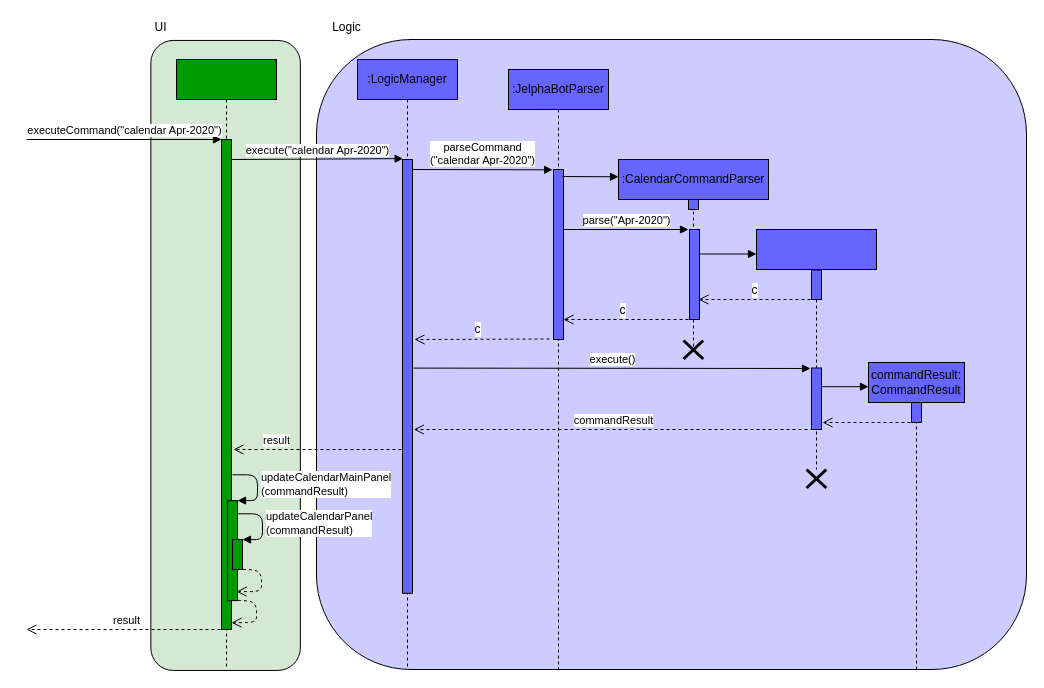
Image size: 1044x688. Some labels were removed from this diagram. The shapes that lost their labels are listed below. From the top down, each one's box as (x1, y1, x2, y2) in pixels, then its label:
(176, 58, 276, 670): :MainWindow
(756, 228, 876, 470): c:CalendarCommand
